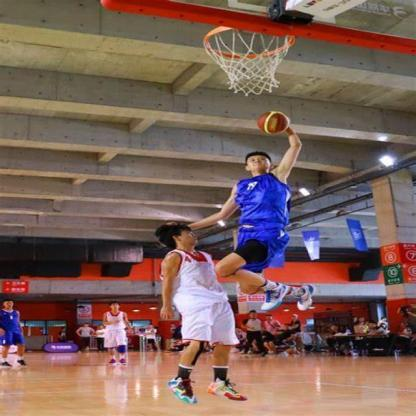basketball: (257, 111, 290, 134)
rim: (204, 21, 293, 93)
